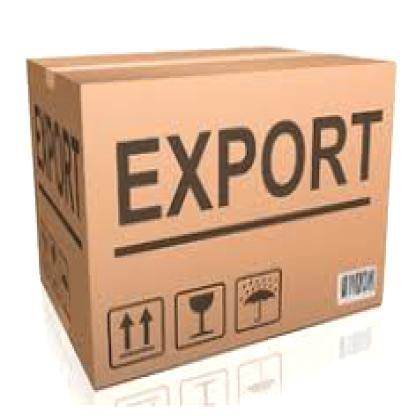box: (21, 50, 406, 401)
